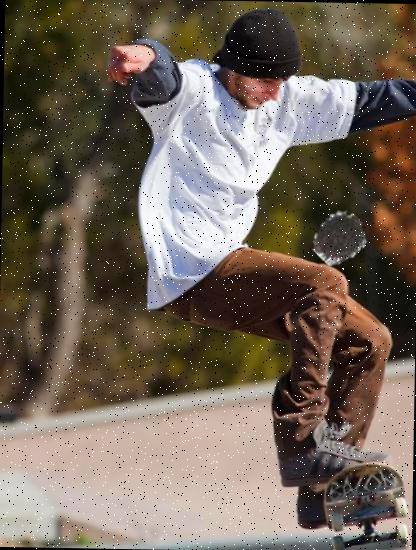Rambutan: (311, 210, 367, 266)
